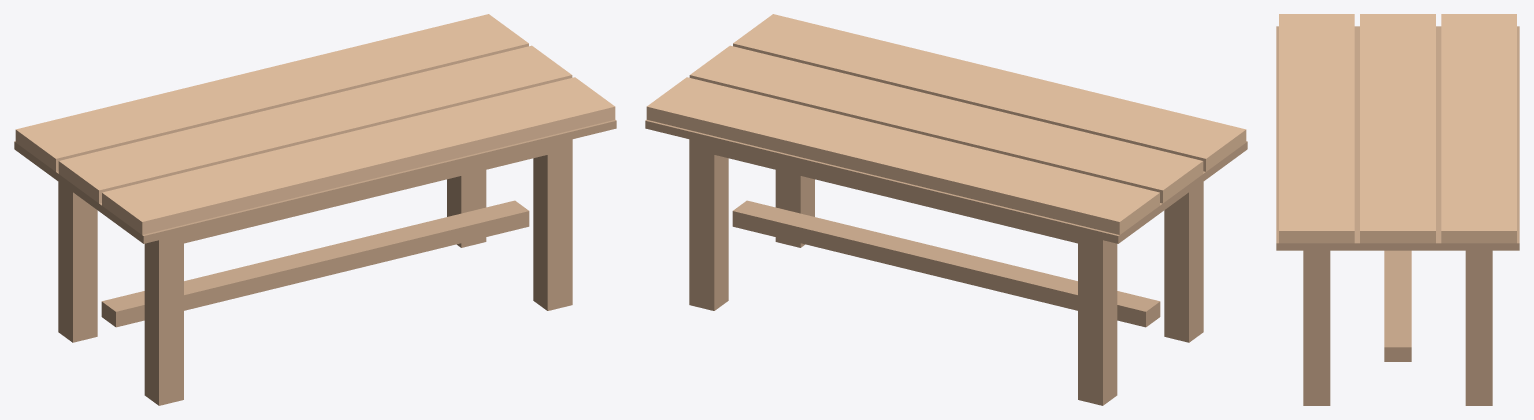
The model's file is diningPlankFarm.glb.
3 views of the same model, side by side, from view 1: azimuth 30°, elevation 25°; view 2: azimuth 150°, elevation 25°; view 3: azimuth 270°, elevation 25° (orthographic). The views are drawn at different scales.
Visible parts, largest first — view 1: diningPlankFarm; view 2: diningPlankFarm; view 3: diningPlankFarm.
Part boxes in pixels (x1,y1,x2,y2): diningPlankFarm: (14, 14, 616, 405); diningPlankFarm: (645, 14, 1247, 405); diningPlankFarm: (1276, 14, 1519, 405).
Bounding box in the file's own units: 0.95 × 0.385 × 0.45.
